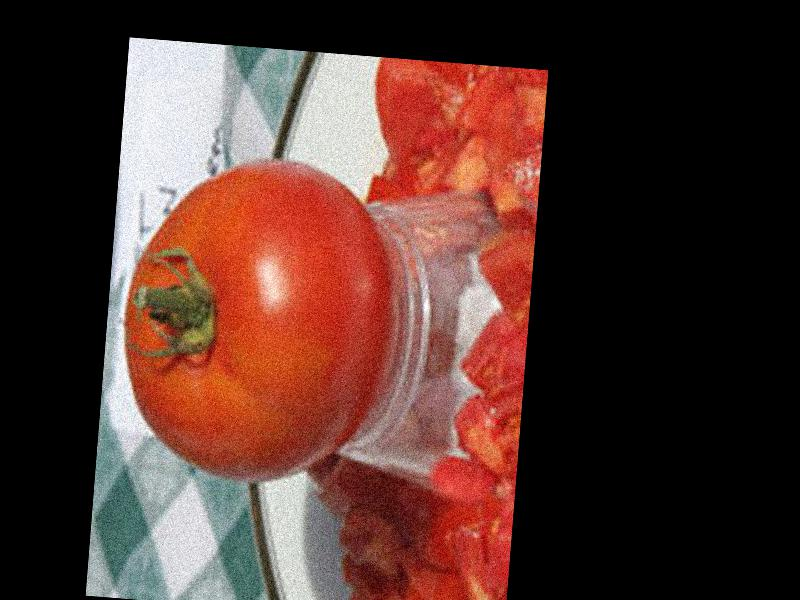Tomato: (110, 145, 403, 493)
